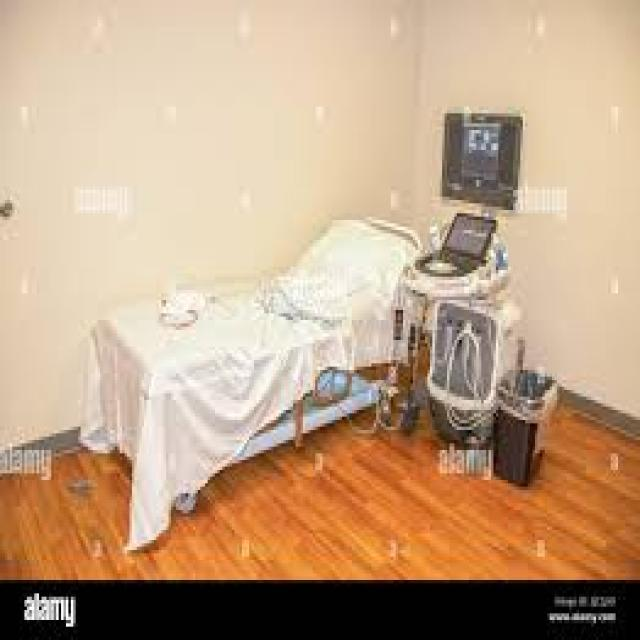Monitor: (409, 100, 552, 310), (490, 354, 564, 490)
bed: (75, 212, 436, 556)
